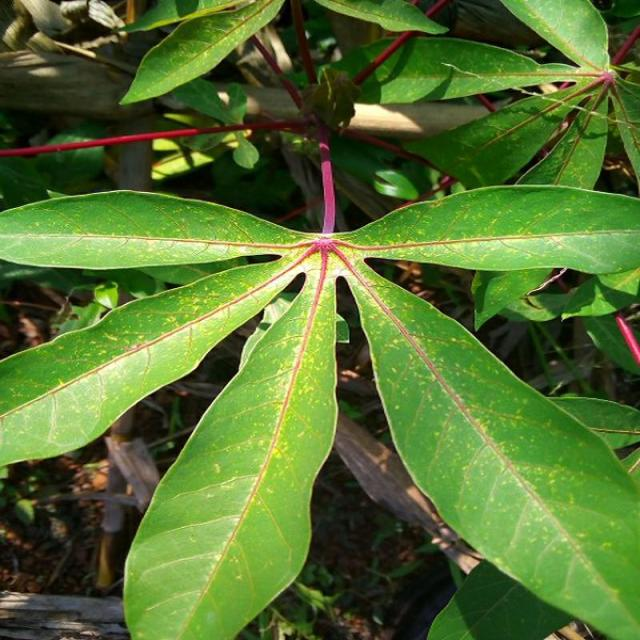cassava leaf: (1, 146, 638, 637), (341, 254, 638, 638), (122, 261, 340, 638)
